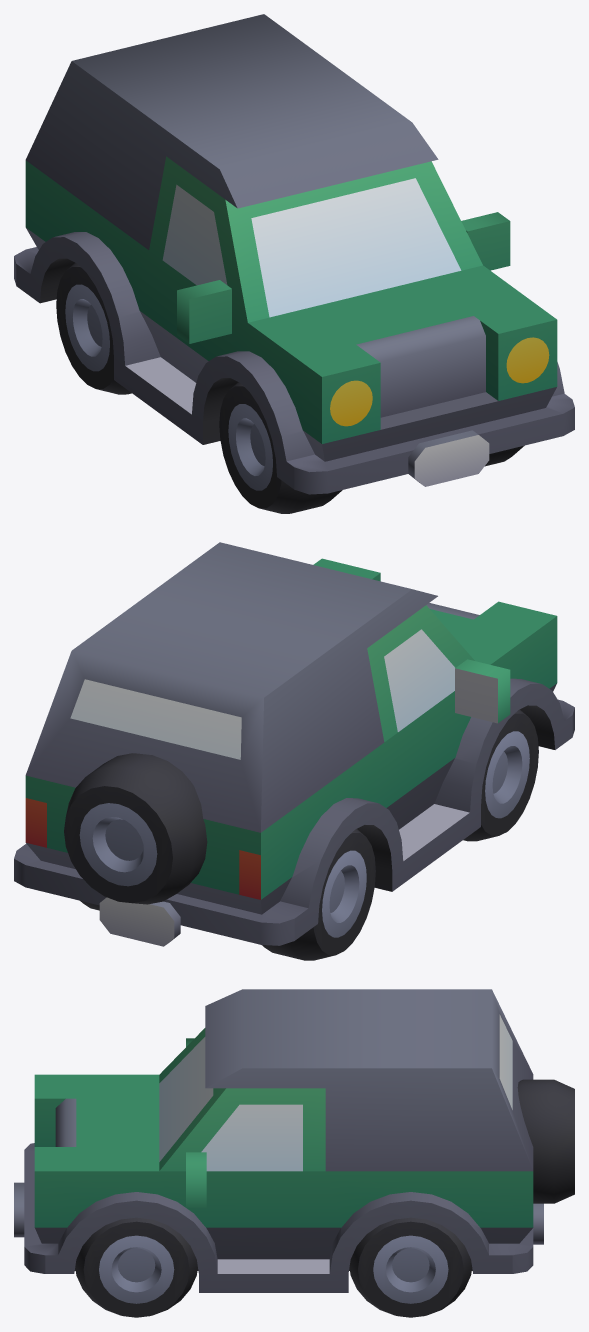
Rendered from suv.glb.
3 renders of one model, top to bottom at view 1: azimuth 30°, elevation 25°; view 2: azimuth 150°, elevation 25°; view 3: azimuth 270°, elevation 25°, orthographic. The views are drawn at different scales.
Parts seen in each view (by area): view 1: body, wheel-front-right, wheel-back-right; view 2: body, wheel-back, wheel-back-right, wheel-front-right; view 3: body, wheel-back-left, wheel-front-left, wheel-back.
Boxes of the visible parts, left/top/right/bottom form: body: left=14, top=14, right=574, bottom=494; wheel-front-right: left=219, top=382, right=342, bottom=513; wheel-back-right: left=56, top=262, right=131, bottom=394; body: left=14, top=542, right=574, bottom=946; wheel-back: left=64, top=753, right=207, bottom=904; wheel-back-right: left=262, top=829, right=375, bottom=960; wheel-front-right: left=463, top=709, right=538, bottom=841; body: left=14, top=989, right=543, bottom=1292; wheel-back-left: left=349, top=1217, right=472, bottom=1317; wheel-front-left: left=75, top=1217, right=197, bottom=1317; wheel-back: left=517, top=1079, right=574, bottom=1203.
Bounding box in the file's own units: 1.5 × 1.3 × 2.7.
